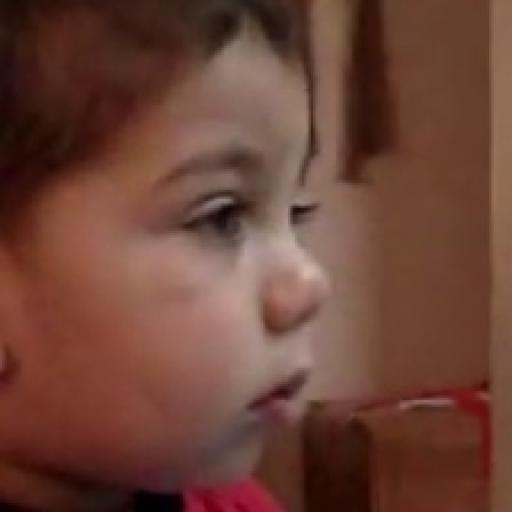Autism: (19, 18, 434, 507)
